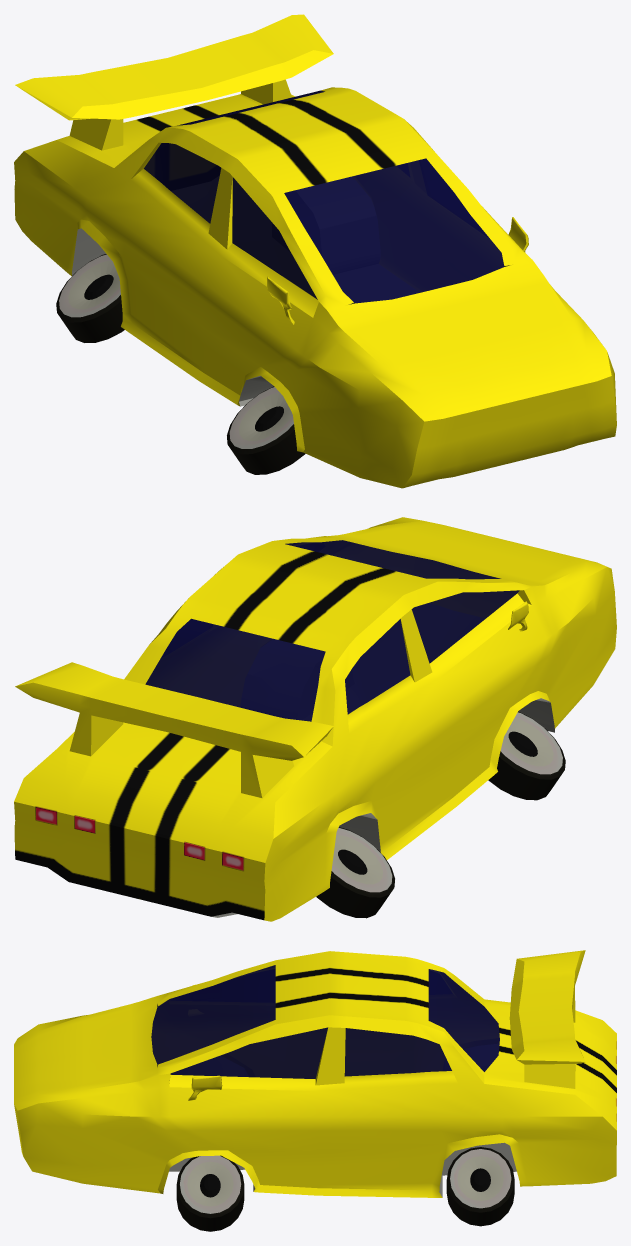
File: car.fbx
3 renders of one model, top to bottom at view 1: azimuth 30°, elevation 25°; view 2: azimuth 150°, elevation 25°; view 3: azimuth 270°, elevation 25°, orthographic. The views are drawn at different scales.
Parts seen in each view (by area): view 1: polySurface12; view 2: polySurface12; view 3: polySurface12.
Part boxes in pixels (left/top/right/bottom): polySurface12: left=14, top=14, right=616, bottom=488; polySurface12: left=14, top=517, right=616, bottom=921; polySurface12: left=14, top=950, right=616, bottom=1231.
Size of the model in its own units: 7.33 by 5.15 by 14.75.
2 materials, 1 textured.
